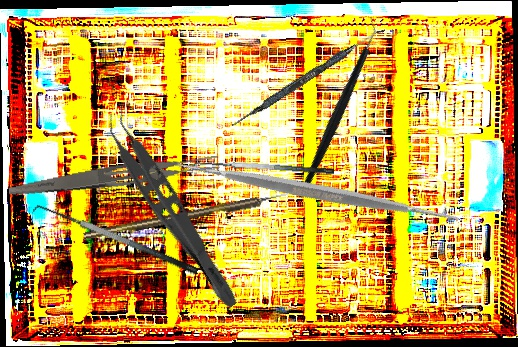Chopper: (249, 16, 426, 195)
Dressing Forceps: (7, 149, 221, 206)
Hook Surgical: (82, 191, 290, 241)
Spatula Surgical: (163, 38, 468, 343), (230, 22, 386, 132), (29, 196, 200, 289), (191, 155, 335, 187)
Tissue Forceps: (93, 103, 256, 313)
